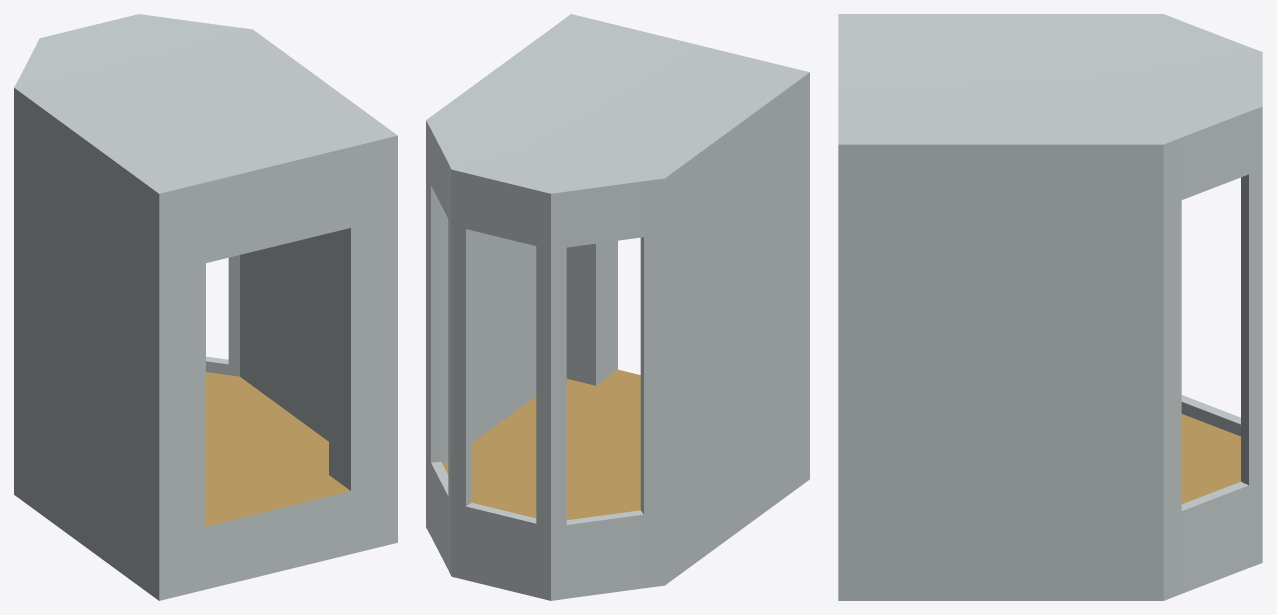
File: MOD_Elevator.fbx
The picture shows the model from 3 angles, left to right: view 1: azimuth 30°, elevation 25°; view 2: azimuth 150°, elevation 25°; view 3: azimuth 270°, elevation 25°; orthographic projection. The views are drawn at different scales.
Parts seen in each view (by area): view 1: MOD_Elevator; view 2: MOD_Elevator; view 3: MOD_Elevator.
Boxes of the visible parts, bbox=[...] form: MOD_Elevator: bbox=[14, 14, 397, 600]; MOD_Elevator: bbox=[426, 14, 809, 600]; MOD_Elevator: bbox=[838, 14, 1262, 600].
Size of the model in its own units: 136 by 221 by 186.
